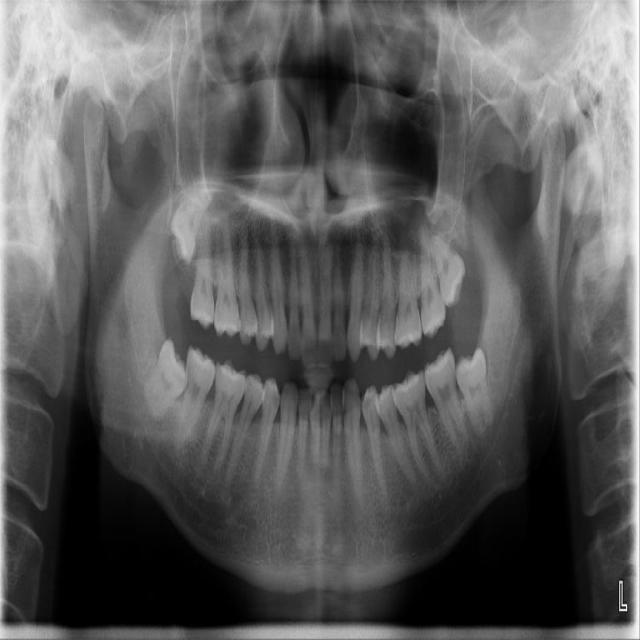impacted tooth: (171, 175, 216, 264), (144, 341, 189, 429), (455, 346, 494, 431)
